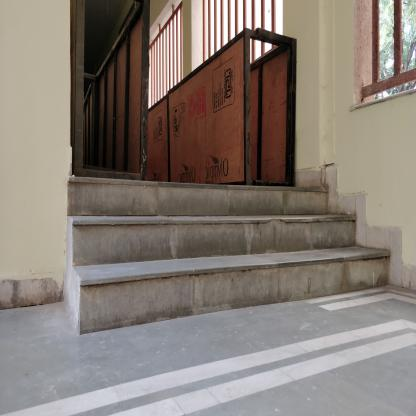stairs: (82, 175, 327, 336)
